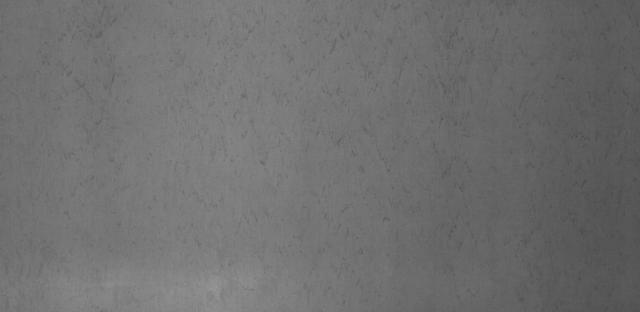silk_spot: (136, 31, 586, 271)
